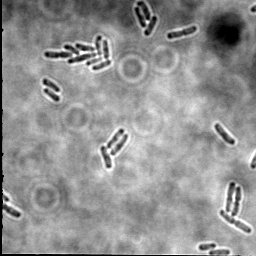Dividing: (219, 209, 253, 235), (166, 24, 199, 41), (231, 186, 244, 217), (225, 181, 237, 214)
Microcolony: (42, 34, 112, 72)
Rod: (214, 122, 237, 146), (111, 132, 129, 157), (106, 128, 125, 150), (99, 144, 114, 170), (142, 15, 159, 37), (133, 6, 148, 29), (42, 77, 62, 93), (137, 0, 152, 21), (42, 87, 61, 103), (197, 241, 217, 252), (208, 248, 231, 255)
